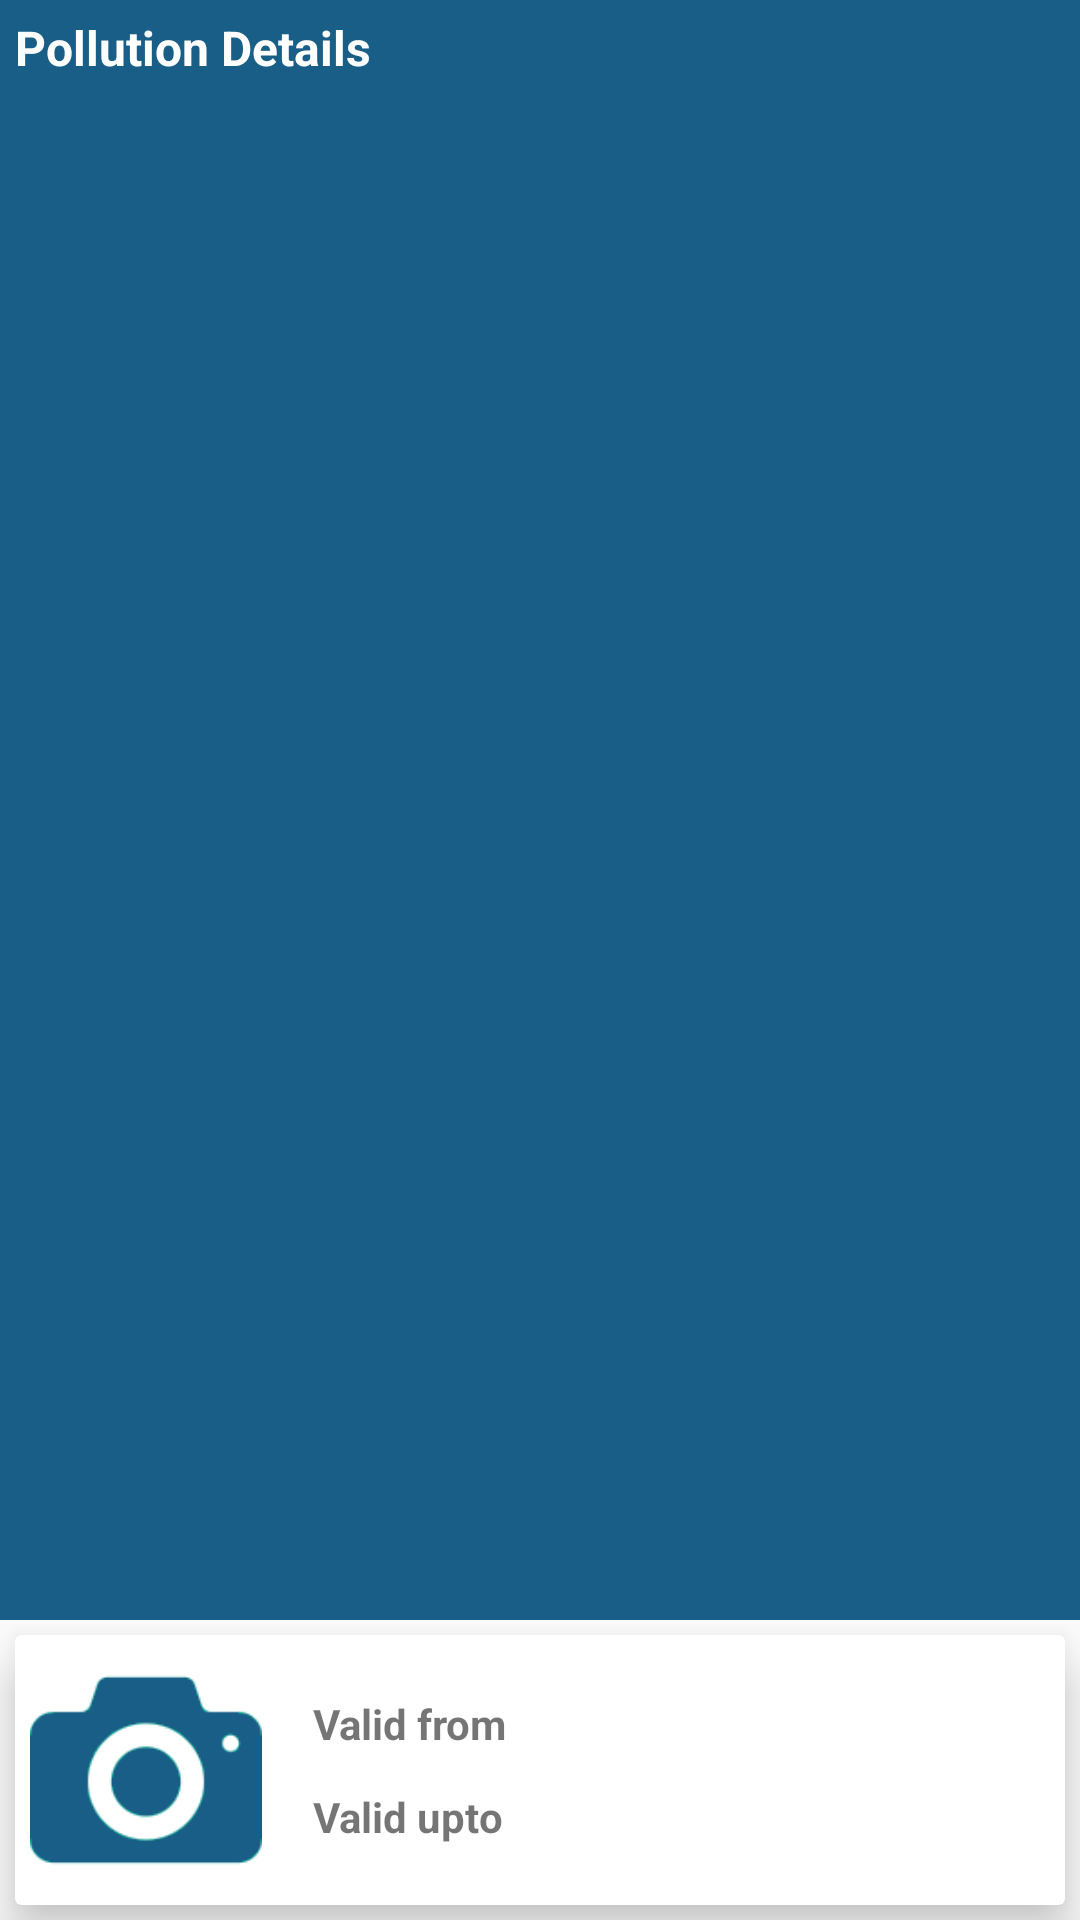

Screen size 1080w x 1920h. Icon name, then its center in pixels as (x=x, y=y):
camera: (x=146, y=1770)
